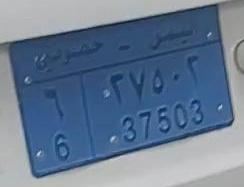city: (24, 82, 90, 170)
number: (81, 45, 232, 159)
text: (11, 6, 221, 84)
